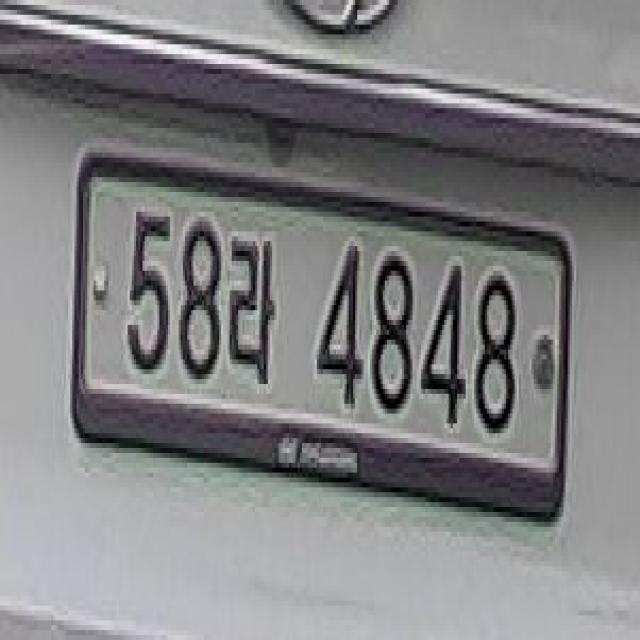4: (308, 227, 364, 416), (422, 252, 466, 436)
5: (124, 199, 172, 373)
8: (471, 263, 522, 437), (176, 206, 224, 380), (370, 237, 414, 424)
la: (228, 222, 276, 398)
license_plate: (60, 140, 583, 543)
